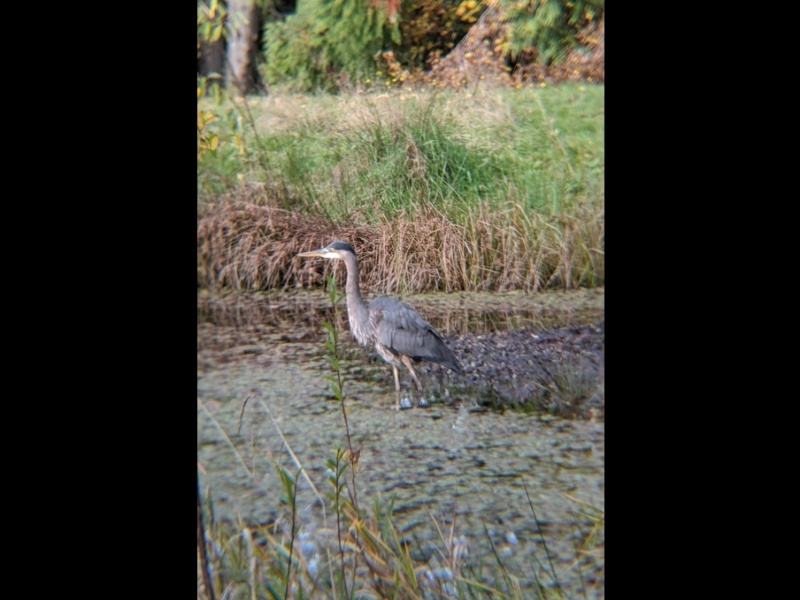heron: (297, 237, 465, 404)
